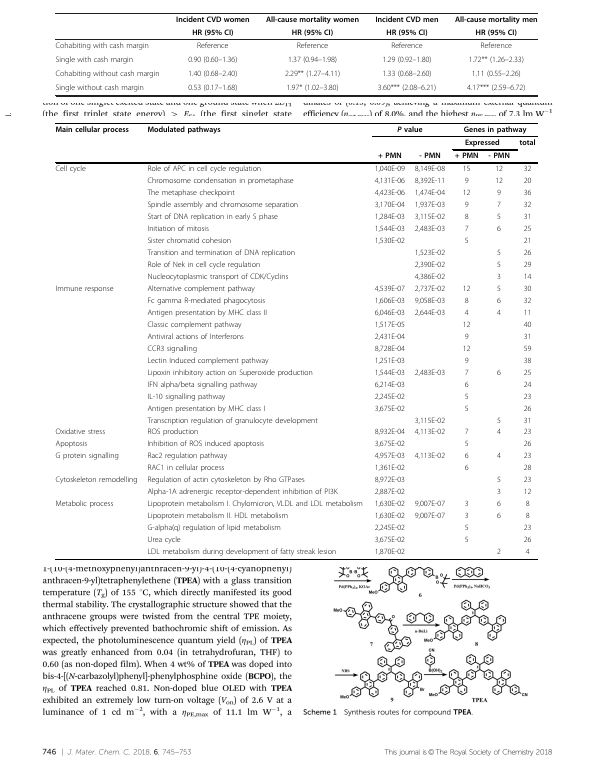borderless: (54, 121, 538, 559), (54, 11, 537, 95)
cell: (146, 499, 364, 509), (146, 487, 339, 497), (146, 547, 337, 557), (146, 475, 306, 485), (146, 416, 319, 425), (146, 200, 299, 210), (146, 368, 314, 377), (146, 248, 296, 258), (146, 272, 289, 282), (146, 511, 289, 521), (146, 523, 282, 533), (146, 177, 295, 186), (146, 212, 279, 222), (146, 308, 268, 318), (146, 296, 266, 306), (146, 260, 261, 270), (146, 356, 269, 365), (146, 284, 256, 294), (146, 404, 266, 413), (146, 440, 265, 449), (54, 69, 160, 79), (146, 165, 262, 174), (146, 380, 258, 389), (146, 320, 242, 330), (54, 41, 150, 51), (146, 188, 236, 198), (55, 83, 145, 93), (146, 332, 245, 341), (146, 236, 232, 246), (265, 15, 360, 24), (54, 475, 139, 485), (146, 451, 228, 461), (54, 55, 134, 65), (146, 463, 225, 473), (454, 15, 538, 24), (146, 392, 226, 401), (55, 125, 130, 134), (146, 125, 221, 134), (175, 15, 250, 24), (54, 451, 120, 461), (146, 224, 210, 234), (54, 284, 114, 294), (54, 499, 114, 509), (377, 83, 437, 93), (466, 83, 526, 93), (374, 15, 439, 24), (463, 125, 527, 134), (468, 55, 525, 65), (284, 69, 341, 79), (285, 83, 339, 93), (187, 55, 238, 65), (287, 55, 338, 65), (381, 55, 432, 65), (187, 69, 238, 79), (381, 69, 432, 79), (471, 69, 522, 79), (187, 83, 238, 93), (146, 428, 199, 437), (146, 344, 198, 353), (54, 428, 106, 437), (191, 28, 234, 38), (291, 28, 334, 38), (385, 28, 428, 38), (475, 28, 518, 38), (464, 138, 501, 148), (146, 535, 182, 545), (390, 41, 424, 51), (479, 41, 513, 51), (196, 41, 229, 51), (296, 41, 329, 51), (374, 188, 406, 198), (414, 188, 446, 198), (374, 200, 406, 210), (414, 200, 446, 210), (374, 212, 406, 222), (414, 212, 446, 222), (374, 224, 406, 234), (414, 224, 446, 234), (374, 236, 406, 246), (414, 248, 446, 258), (414, 260, 446, 270), (414, 272, 446, 282), (374, 284, 406, 294), (414, 284, 446, 294), (374, 296, 406, 306), (414, 296, 446, 306), (374, 308, 406, 318), (414, 308, 446, 318), (374, 320, 406, 330), (374, 451, 406, 461), (414, 451, 446, 461), (374, 463, 406, 473), (374, 475, 406, 485), (374, 487, 406, 497), (374, 499, 406, 509), (414, 499, 446, 509), (374, 511, 406, 521), (414, 511, 446, 521), (374, 523, 406, 533), (374, 535, 406, 545), (374, 547, 406, 557), (54, 440, 88, 449), (54, 165, 87, 174), (374, 165, 406, 174), (414, 165, 446, 174), (374, 177, 406, 186), (414, 177, 446, 186), (374, 332, 406, 341), (374, 344, 406, 353), (374, 356, 406, 365), (374, 368, 406, 377), (414, 368, 446, 377), (374, 380, 406, 389), (374, 392, 406, 401), (374, 404, 406, 413), (414, 416, 446, 425), (374, 428, 406, 437), (414, 428, 446, 437), (374, 440, 406, 449), (377, 151, 403, 161), (454, 151, 479, 161), (396, 125, 423, 134), (487, 151, 511, 161), (418, 151, 441, 161), (519, 138, 536, 148), (494, 165, 504, 174), (494, 177, 504, 186), (462, 188, 471, 198), (523, 188, 532, 198), (523, 200, 532, 210), (523, 212, 532, 222), (523, 224, 532, 234), (523, 236, 532, 246), (523, 248, 532, 258), (523, 260, 532, 270), (523, 272, 532, 282), (462, 284, 471, 294), (523, 284, 532, 294), (523, 296, 532, 306), (523, 308, 532, 318), (462, 320, 471, 330), (523, 320, 532, 330), (523, 451, 532, 461), (523, 463, 532, 473), (523, 475, 532, 485), (523, 487, 532, 497), (523, 523, 532, 533), (523, 535, 532, 545), (462, 165, 471, 174), (523, 165, 532, 174), (523, 177, 532, 186), (523, 332, 532, 341), (462, 344, 471, 353), (523, 344, 532, 353), (523, 356, 532, 365), (523, 368, 532, 377), (523, 380, 532, 389), (523, 392, 532, 401), (523, 404, 532, 413), (523, 416, 532, 425), (523, 428, 532, 437), (523, 440, 532, 449), (496, 188, 502, 198), (496, 200, 502, 210), (496, 212, 502, 222), (496, 224, 502, 234), (496, 248, 502, 258), (496, 260, 502, 270), (496, 272, 502, 282), (496, 284, 502, 294), (496, 296, 502, 306), (496, 308, 502, 318), (496, 451, 502, 461), (496, 475, 502, 485), (496, 487, 502, 497), (496, 499, 502, 509), (496, 511, 502, 521), (496, 547, 502, 557), (496, 368, 502, 377), (496, 416, 502, 425), (496, 428, 502, 437), (464, 200, 469, 210), (464, 212, 469, 222), (464, 224, 469, 234), (464, 236, 469, 246), (464, 296, 469, 306), (464, 308, 469, 318), (464, 451, 469, 461), (464, 463, 469, 473), (464, 499, 469, 509), (525, 499, 530, 509), (464, 511, 469, 521), (525, 511, 530, 521), (464, 523, 469, 533), (464, 535, 469, 545), (525, 547, 530, 557), (464, 177, 469, 186), (464, 332, 469, 341), (464, 356, 469, 365), (464, 368, 469, 377), (464, 380, 469, 389), (464, 392, 469, 401), (464, 404, 469, 413), (464, 428, 469, 437), (464, 440, 469, 449)
